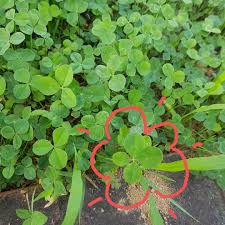4-clover: (113, 133, 162, 183)
